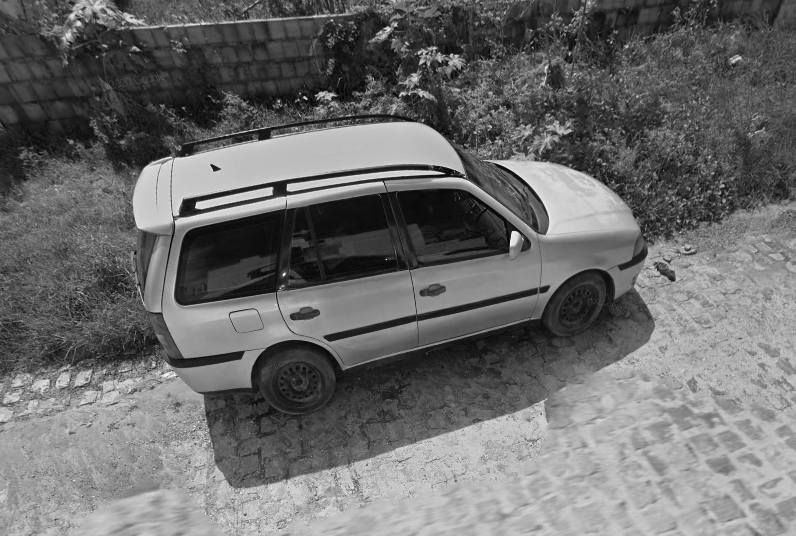car: (127, 110, 652, 419)
